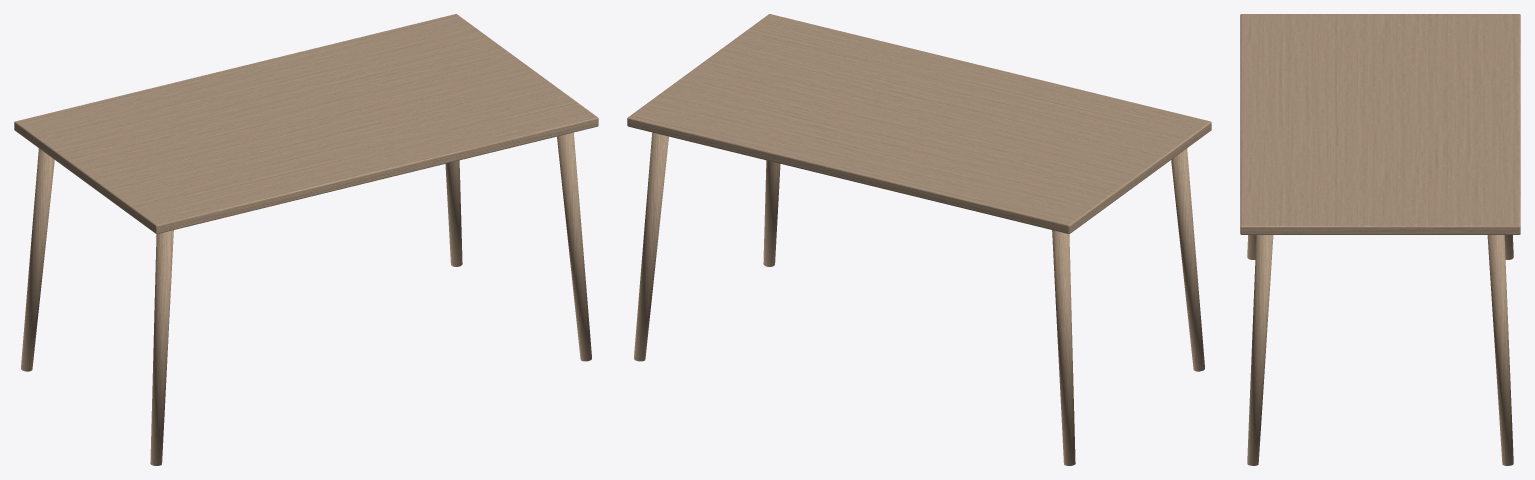
File: table.glb
3 renders of one model, left to right at view 1: azimuth 30°, elevation 25°; view 2: azimuth 150°, elevation 25°; view 3: azimuth 270°, elevation 25°, orthographic.
Parts seen in each view (by area): view 1: Table; view 2: Table; view 3: Table.
Boxes of the visible parts, x1,y1,x2,y2 form: Table: (14, 14, 598, 465); Table: (627, 14, 1211, 465); Table: (1240, 14, 1520, 465).
Bounding box in the file's own units: 1.4 × 0.7401 × 0.7801.
Materials: 1 (1 with a texture image).
